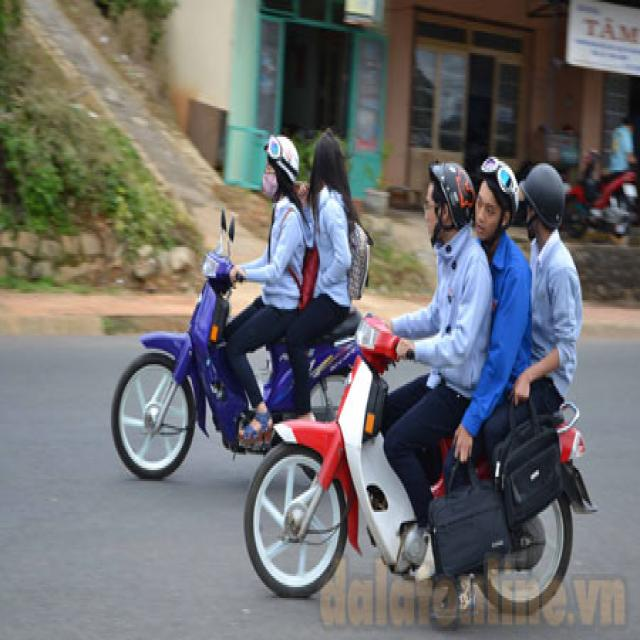helmet: (427, 160, 476, 231), (519, 160, 567, 231), (263, 134, 301, 184)
no_helmet: (308, 123, 353, 187)
